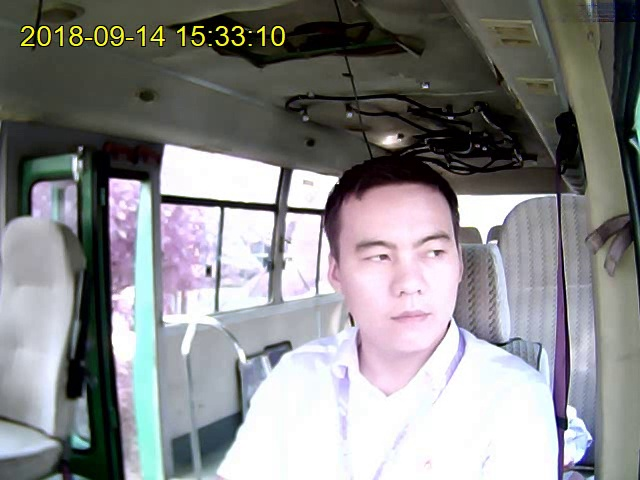closed_mouth: (388, 309, 431, 328)
open_eye: (420, 246, 448, 262), (361, 253, 393, 266)
